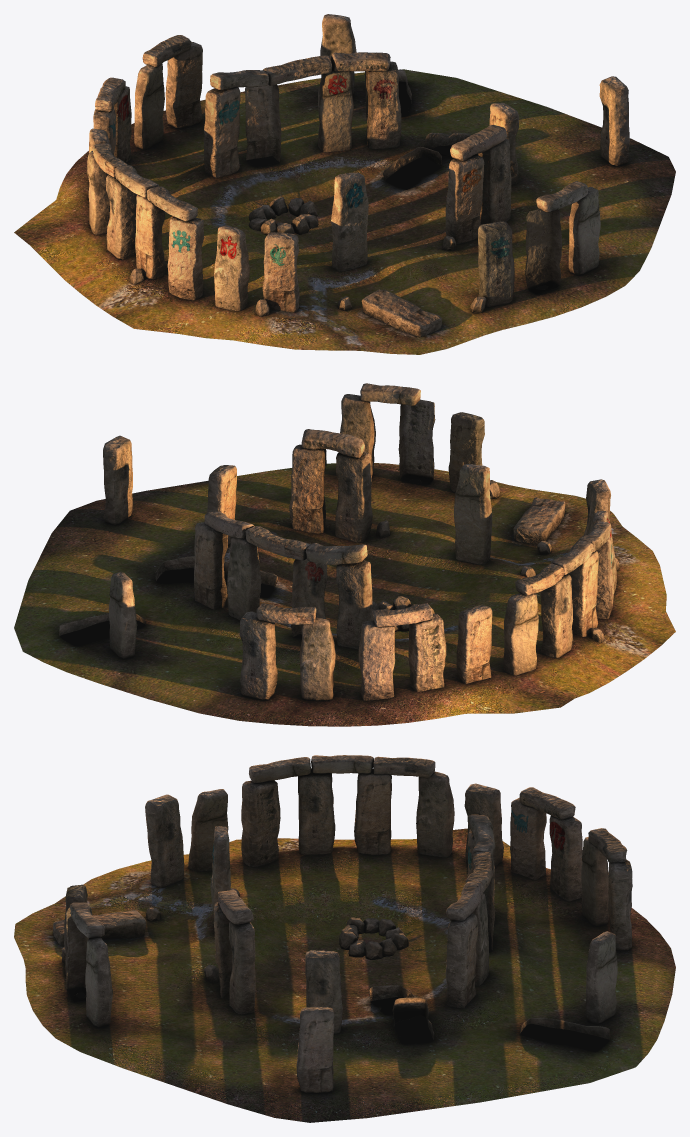
The model's file is stonehenge_angleterre.glb.
The picture shows the model from 3 angles, top to bottom: view 1: azimuth 30°, elevation 25°; view 2: azimuth 150°, elevation 25°; view 3: azimuth 270°, elevation 25°; orthographic projection. The views are drawn at different scales.
Visible parts, largest first — view 1: Object_2, Object_3, Object_5, Object_7, Object_9, Object_8, Object_6, Object_4; view 2: Object_2, Object_7, Object_3, Object_5, Object_8, Object_9, Object_4; view 3: Object_2, Object_7, Object_3, Object_8, Object_5, Object_6, Object_9.
Part boxes in pixels (<box>): Object_2: <box>14,69,675,354</box>; Object_3: <box>147,124,600,336</box>; Object_5: <box>203,52,471,180</box>; Object_7: <box>86,35,202,279</box>; Object_9: <box>478,209,561,307</box>; Object_8: <box>320,14,629,184</box>; Object_6: <box>248,196,318,235</box>; Object_4: <box>129,235,486,316</box>; Object_2: <box>14,463,675,726</box>; Object_7: <box>239,540,598,700</box>; Object_3: <box>289,383,616,618</box>; Object_5: <box>155,511,373,649</box>; Object_8: <box>59,435,236,658</box>; Object_9: <box>398,399,484,492</box>; Object_4: <box>375,480,619,642</box>; Object_2: <box>14,828,675,1122</box>; Object_7: <box>298,755,632,950</box>; Object_3: <box>53,757,310,1027</box>; Object_8: <box>296,931,617,1092</box>; Object_5: <box>369,814,495,1039</box>; Object_6: <box>339,917,408,959</box>; Object_9: <box>64,884,88,1001</box>.
Bounding box in the file's own units: 1470 × 304 × 1405.
8 materials, 8 textured.
